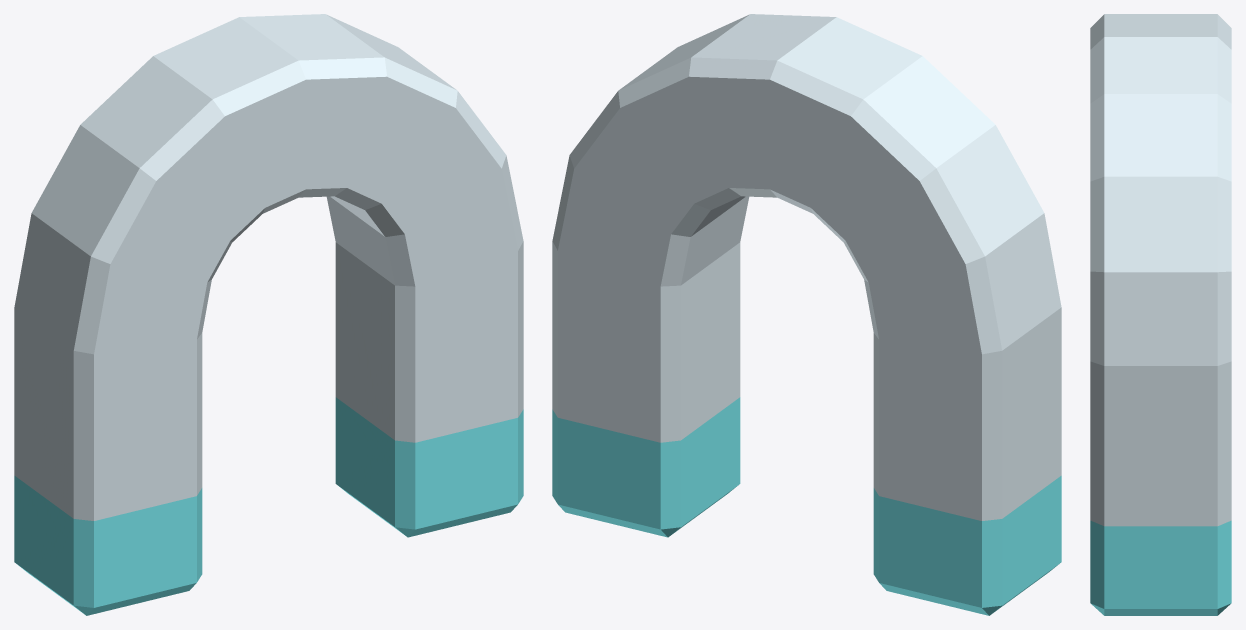
Rendered from Magnet_Hook.fbx.
3 renders of one model, left to right at view 1: azimuth 30°, elevation 25°; view 2: azimuth 150°, elevation 25°; view 3: azimuth 270°, elevation 25°, orthographic. The views are drawn at different scales.
Visible parts, largest first — view 1: MagnetHook; view 2: MagnetHook; view 3: MagnetHook.
Part boxes in pixels (left/top/right/bottom): MagnetHook: left=14, top=14, right=523, bottom=615; MagnetHook: left=552, top=14, right=1061, bottom=615; MagnetHook: left=1090, top=14, right=1231, bottom=615.
Size of the model in its own units: 70 by 74.91 by 20.
